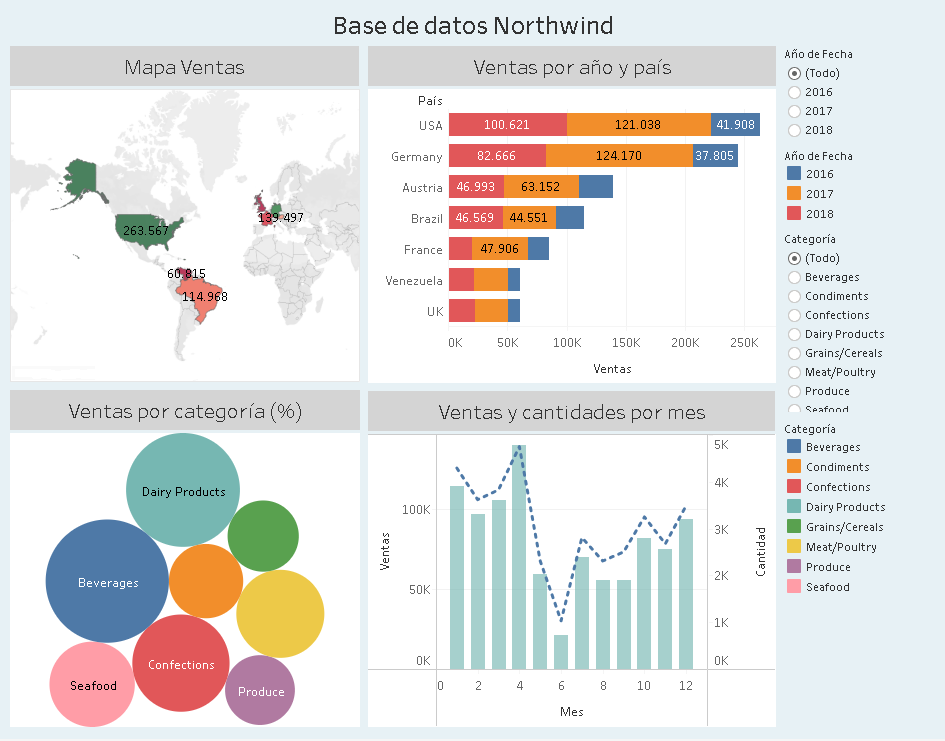

Layout of this report page (visuals, bound fields, positions):
{"tool":"tableau","page":{"name":"Dashboard 1","canvas":[1000,1000],"units":"permille","ordinal":0},"visuals":[{"type":"title","box":[8.4,13.8,983.2,62.3]},{"type":"worksheet","title":"Mapa Ventas","mark":"Multipolygon","box":[8.4,76.1,376.8,454.6]},{"type":"worksheet","title":"Ventas por año y país","mark":"Automatic","rows":["Country"],"cols":["Calculation_92042356133715968"],"box":[385.2,76.1,437.9,455.4]},{"type":"filter","title":"Ventas por año y país","param":"[federated.0cfqvqi0j79gfz193cw3f01hsfm7].[yr:OrderDate:ok]","box":[823.2,76.1,168.4,174.7]},{"type":"legend","title":"Ventas por año y país","param":"[federated.0cfqvqi0j79gfz193cw3f01hsfm7].[yr:OrderDate:ok]","box":[823.2,250.9,168.4,145.3]},{"type":"filter","title":"Ventas y cantidades por mes","param":"[federated.0cfqvqi0j79gfz193cw3f01hsfm7].[none:CategoryName:nk]","box":[823.2,396.2,168.4,327]},{"type":"worksheet","title":"Ventas por categoría (%)","mark":"Circle","box":[8.4,530.7,376.8,455.5]},{"type":"worksheet","title":"Ventas y cantidades por mes","mark":"Automatic","rows":["Calculation_92042356133715968","Quantity"],"cols":["OrderDate"],"box":[385.2,531.5,437.9,454.7]},{"type":"legend","title":"Ventas por categoría (%)","param":"[federated.0cfqvqi0j79gfz193cw3f01hsfm7].[none:CategoryName:nk]","box":[823.2,723.2,168.4,263]}]}

Visuals, with their boxes on the dashboard's canvas, which has no fixed pixel size, in thousandths of its width and height (x1, y1, x2, y2). These are canvas units, not pixel positions in the 945x741 screenshot, which may show the page scaled, cropped or inside an application window:
title: detection(8, 14, 992, 76)
"Mapa Ventas" worksheet (Multipolygon marks): detection(8, 76, 385, 531)
"Ventas por año y país" worksheet: detection(385, 76, 823, 532)
"Ventas por año y país" filter: detection(823, 76, 992, 251)
"Ventas por año y país" legend: detection(823, 251, 992, 396)
"Ventas y cantidades por mes" filter: detection(823, 396, 992, 723)
"Ventas por categoría (%)" worksheet (Circle marks): detection(8, 531, 385, 986)
"Ventas y cantidades por mes" worksheet: detection(385, 532, 823, 986)
"Ventas por categoría (%)" legend: detection(823, 723, 992, 986)
